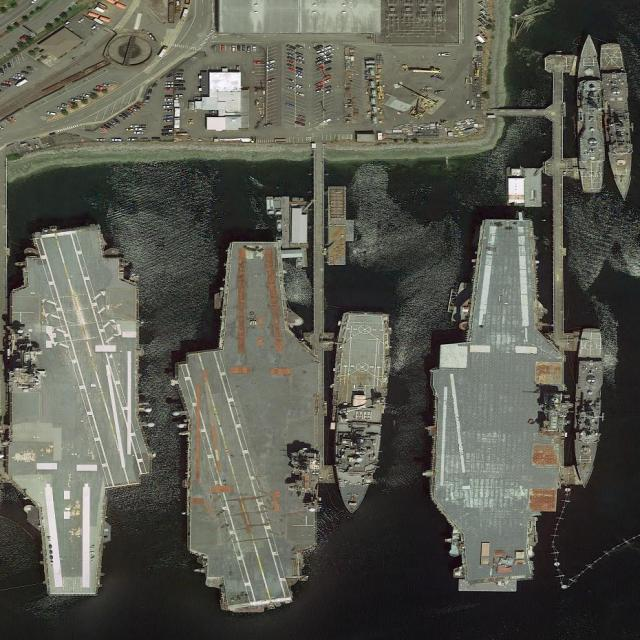Aircraft Carrier: (176, 242, 321, 612), (7, 226, 150, 595), (430, 220, 564, 592)
Dock: (544, 50, 578, 352), (308, 149, 326, 352)
Frigate: (598, 43, 635, 201), (570, 328, 605, 489), (575, 32, 604, 193)
Landing: (326, 312, 391, 513)
